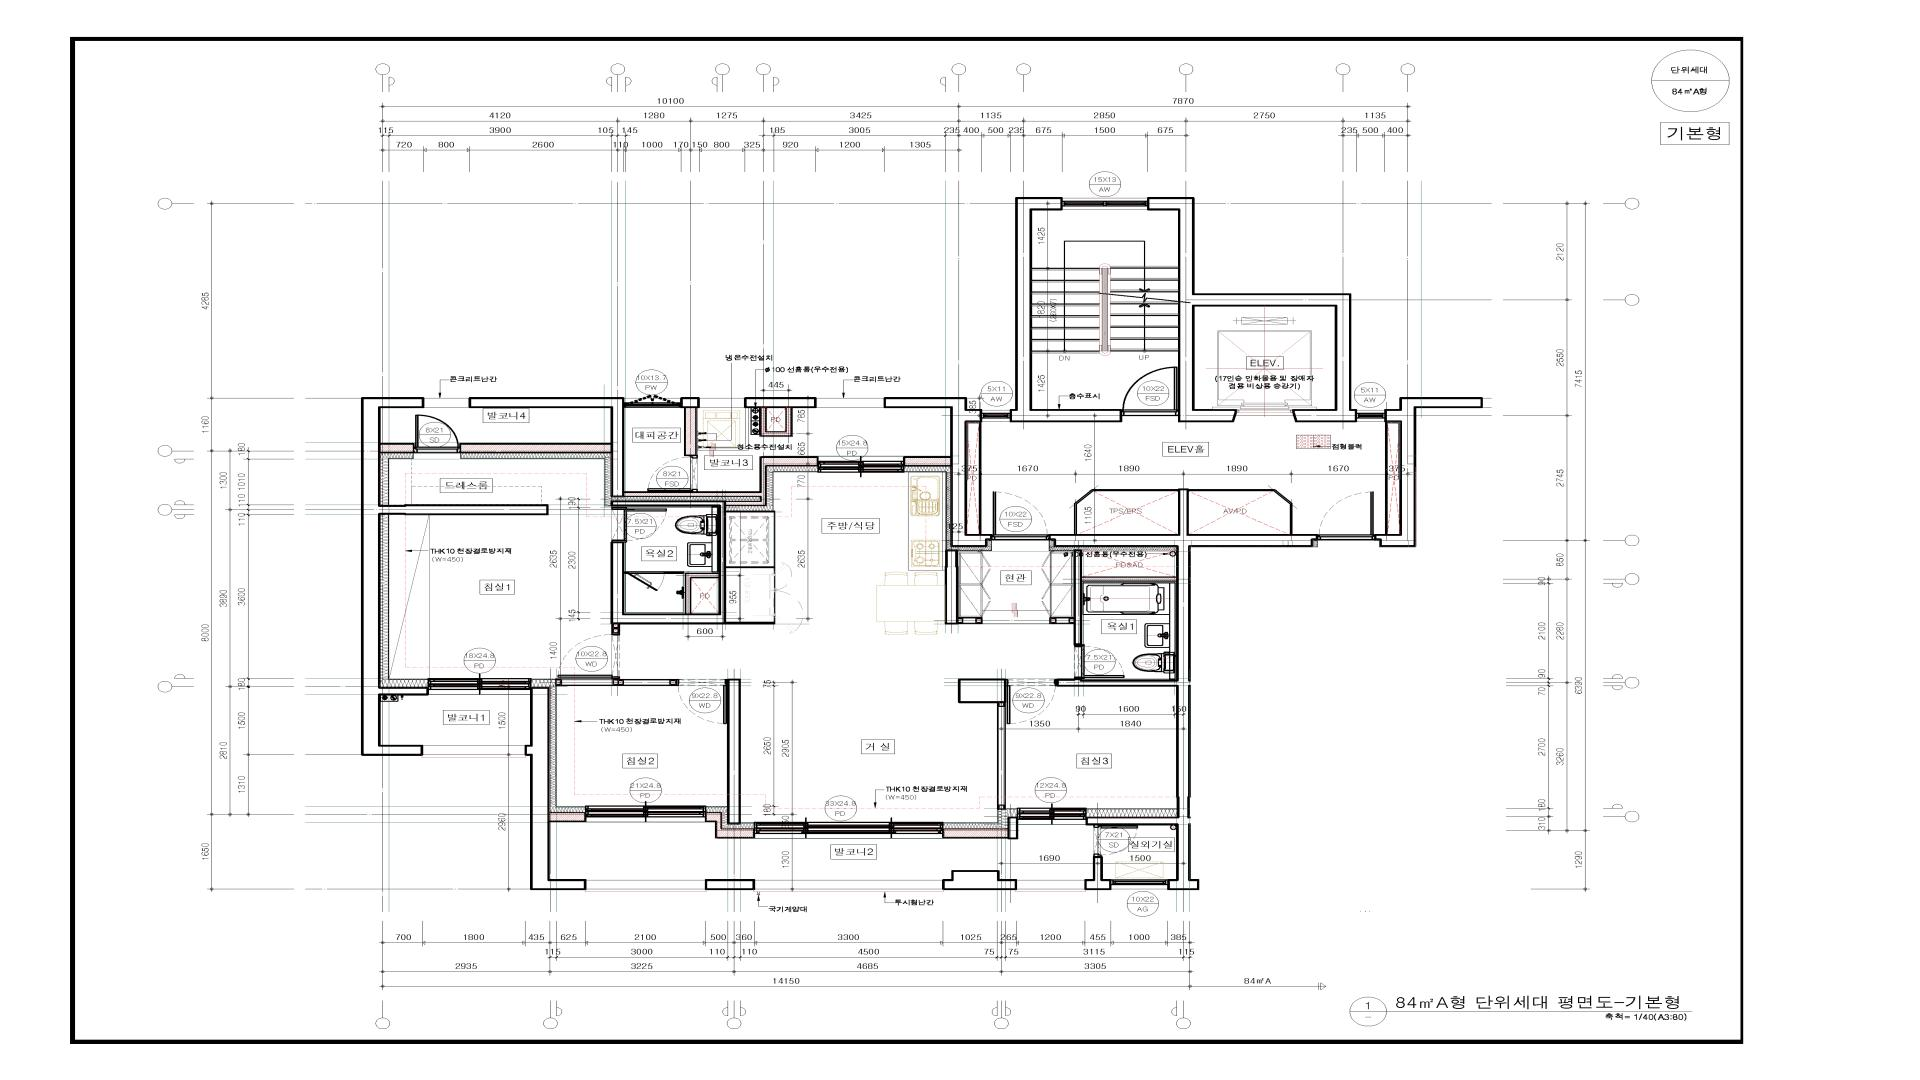door: (557, 633, 620, 679), (1122, 366, 1178, 416), (992, 491, 1049, 540), (1317, 491, 1374, 540), (1006, 678, 1057, 724), (677, 679, 727, 724), (611, 507, 667, 542), (414, 414, 460, 453), (647, 456, 697, 491), (1073, 646, 1125, 678), (1093, 825, 1138, 856), (624, 571, 664, 591)
wall: (1049, 489, 1317, 890), (361, 397, 548, 756), (1147, 197, 1357, 422), (611, 456, 817, 634), (1010, 197, 1122, 422), (1374, 397, 1483, 547), (884, 397, 993, 547), (469, 397, 624, 497), (1049, 550, 1176, 646), (526, 687, 585, 890), (958, 678, 1006, 810), (1074, 489, 1178, 534), (1189, 489, 1292, 534), (945, 550, 983, 624), (727, 679, 741, 824), (943, 817, 1018, 839), (460, 443, 611, 453), (943, 870, 1016, 890), (705, 812, 754, 838), (759, 408, 793, 436), (1086, 856, 1111, 890), (556, 679, 677, 686), (745, 397, 817, 408), (684, 408, 697, 456), (706, 879, 754, 890), (904, 456, 950, 466), (549, 812, 586, 822), (979, 422, 982, 534), (1385, 422, 1388, 534), (381, 443, 414, 453), (680, 397, 700, 408), (664, 571, 684, 574)
window: (754, 822, 943, 838), (754, 879, 943, 892), (586, 805, 705, 822), (429, 678, 530, 695), (585, 879, 706, 892), (817, 456, 904, 473), (422, 745, 526, 758), (1018, 808, 1086, 825), (1063, 198, 1147, 209), (1016, 879, 1086, 892), (624, 395, 681, 408), (817, 397, 884, 408), (1111, 879, 1168, 889), (700, 397, 745, 408), (424, 398, 469, 408), (982, 410, 1010, 422), (1357, 410, 1384, 422)
